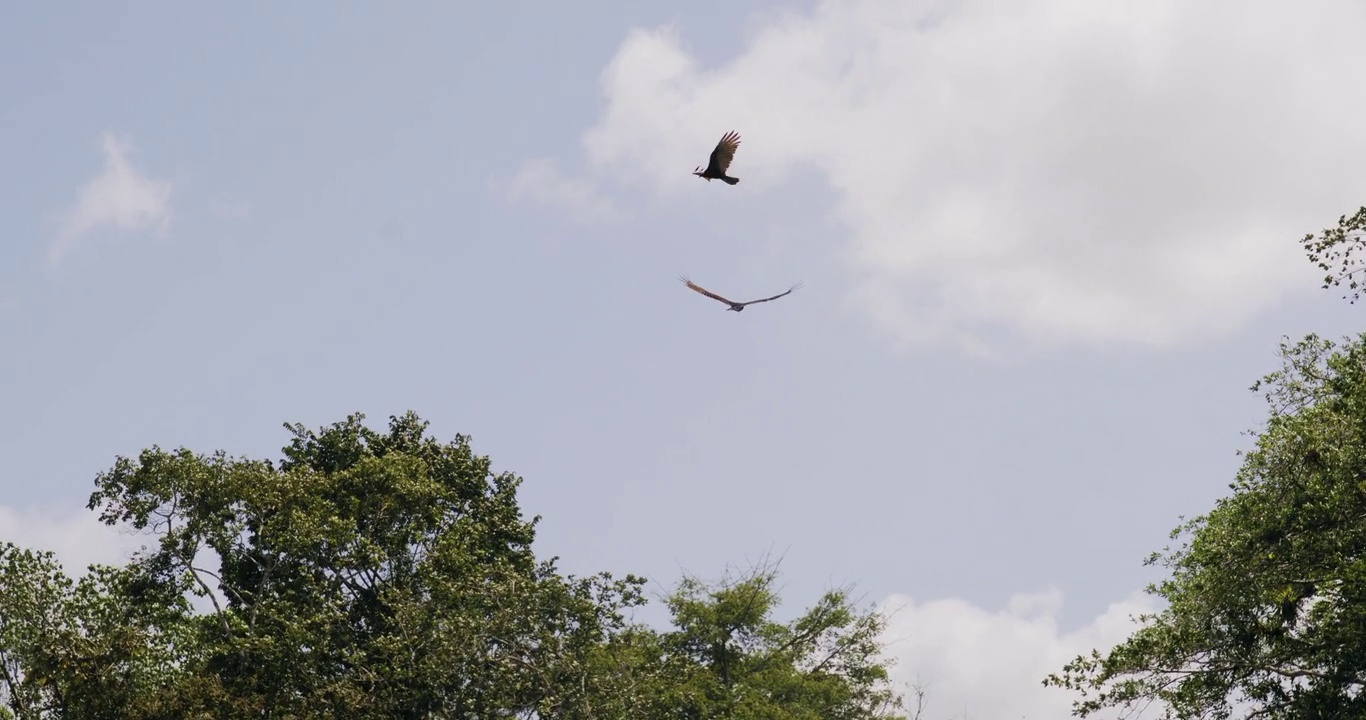bird: (680, 274, 801, 312), (692, 135, 739, 186)
